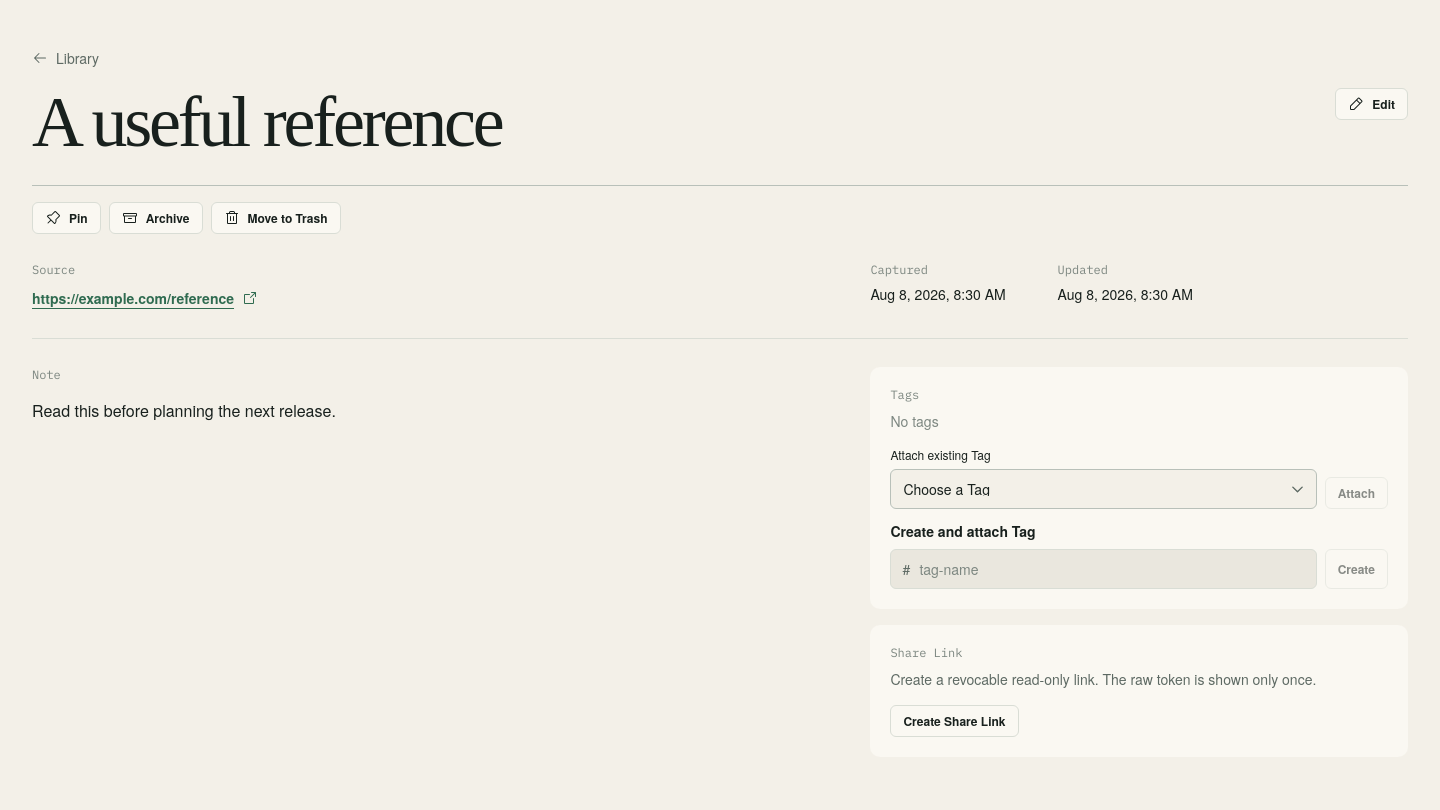
Test: Item detail feature › creates and attaches a Tag from Item detail
This screenshot has width=1440, height=810.
Step 1. Type "#Planning" into the field labelled "Create and attach Tag" → (1104, 569), box x1=890 y1=549 x2=1317 y2=589
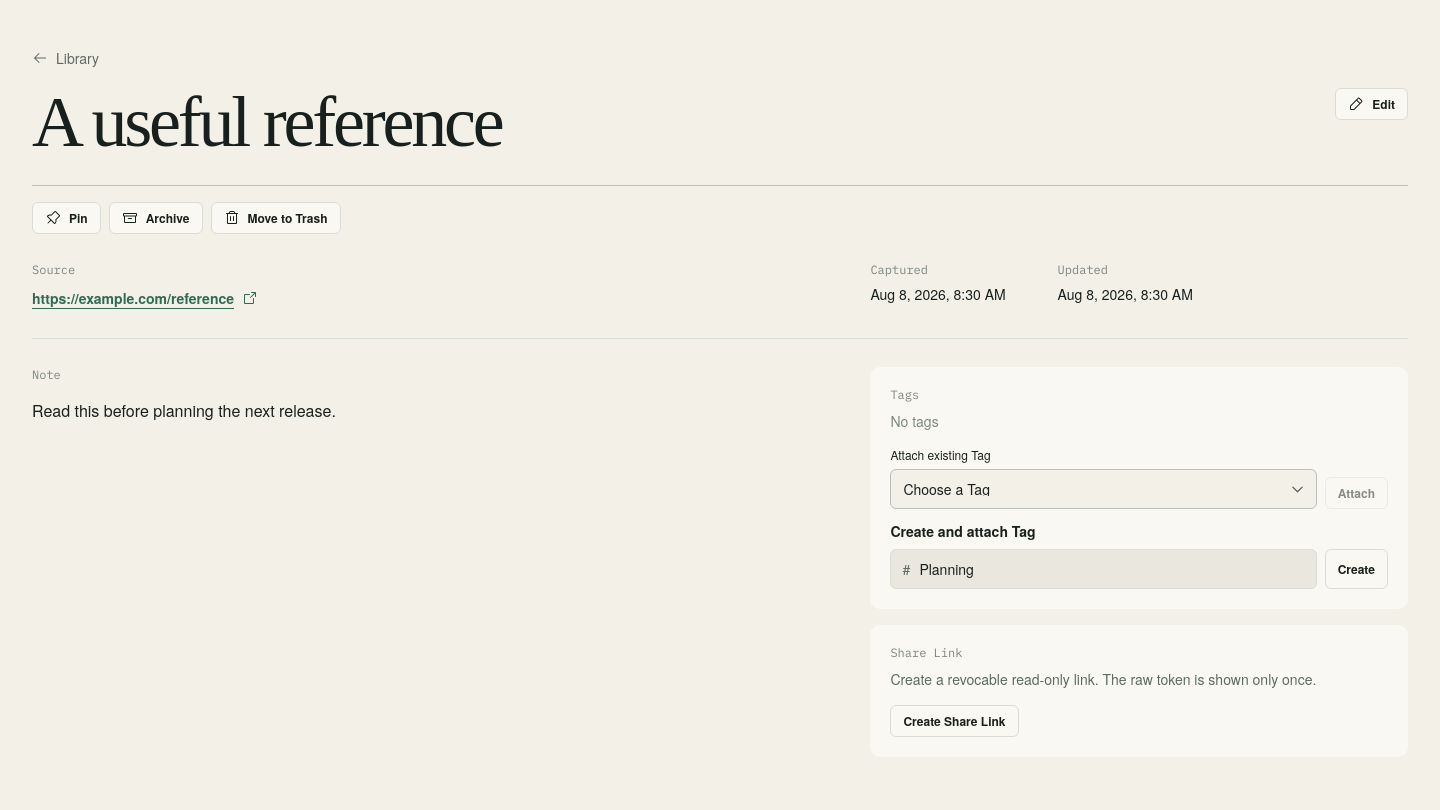
Step 2. Click the button "Create" → (1356, 569), box x1=1325 y1=549 x2=1388 y2=589
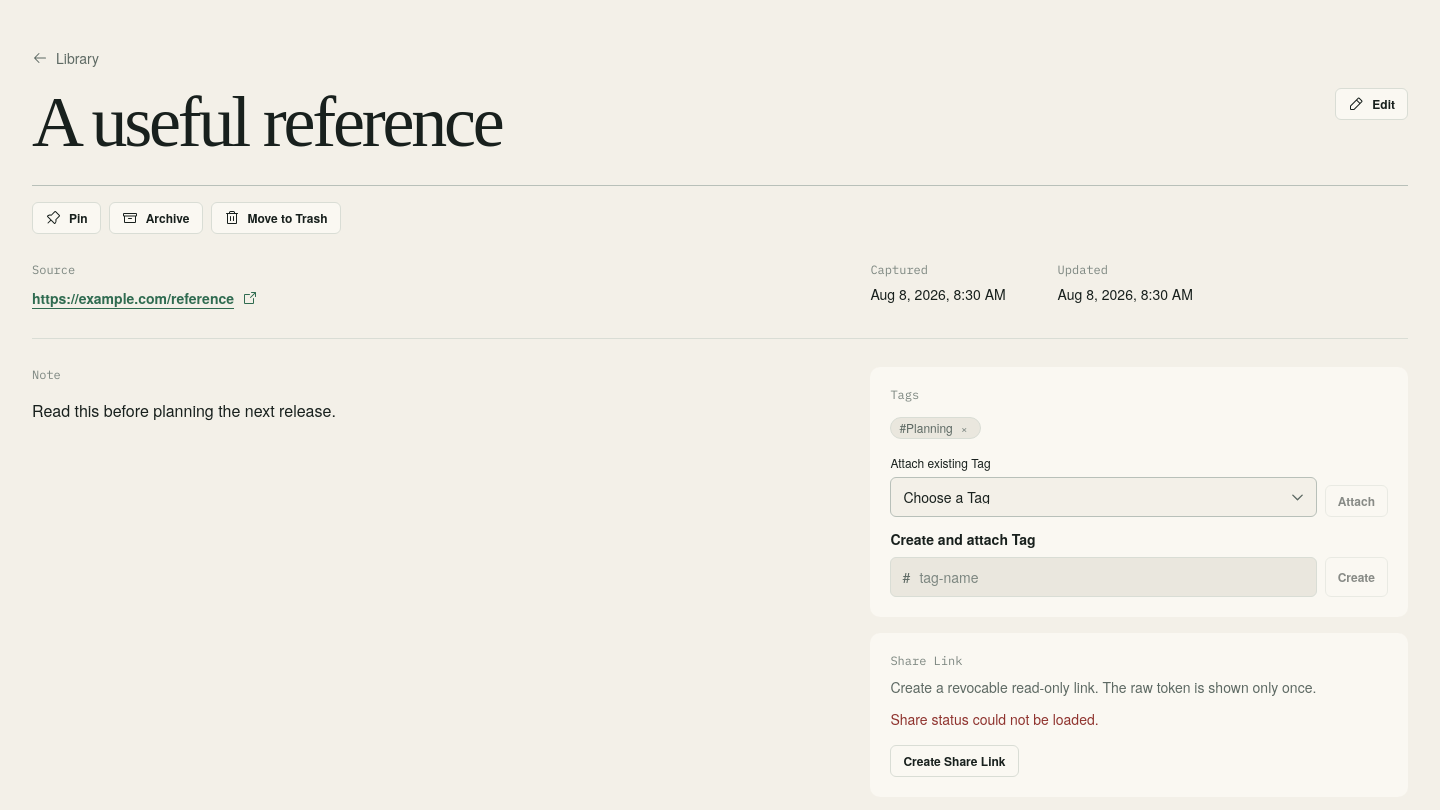
expect the text "#Planning" is shown: met, box x1=899 y1=419 x2=953 y2=436
